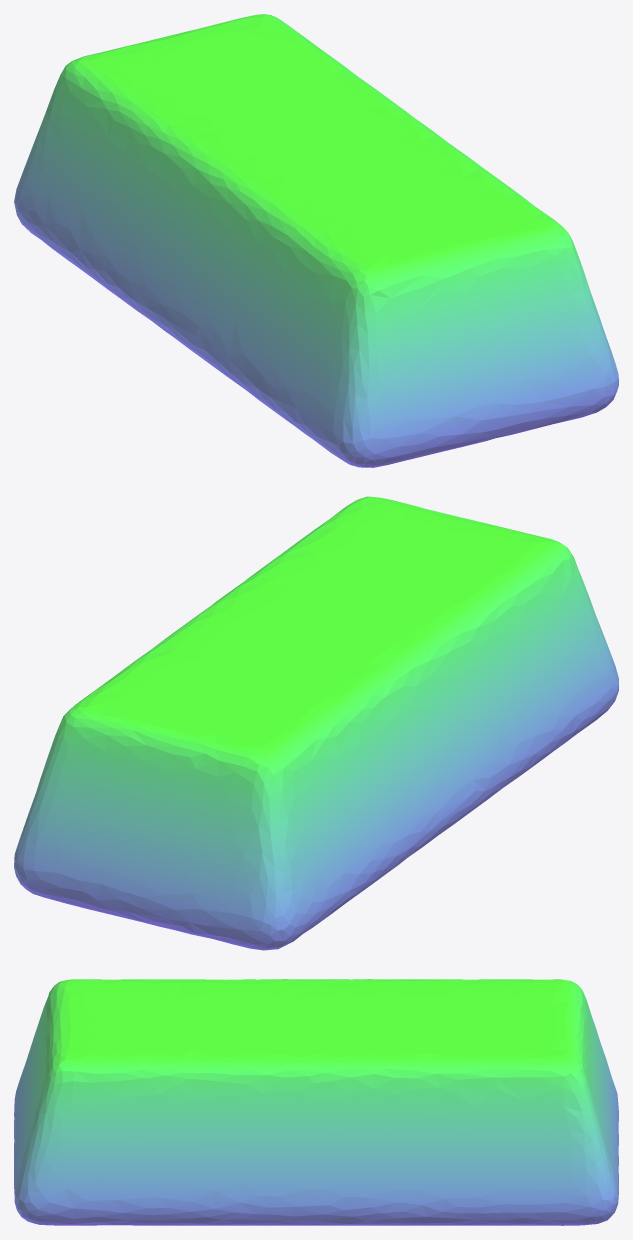
File: 11_cyb_laser_gradient_fish_scales_2988_2026_10_03_601b52.glb
3 views of the same model, one above another, from view 1: azimuth 30°, elevation 25°; view 2: azimuth 150°, elevation 25°; view 3: azimuth 270°, elevation 25° (orthographic). The views are drawn at different scales.
Visible parts, largest first — view 1: geometry_0; view 2: geometry_0; view 3: geometry_0.
Boxes of the visible parts, x1,y1,x2,y2 form: geometry_0: [14, 14, 618, 467]; geometry_0: [14, 496, 618, 950]; geometry_0: [14, 979, 618, 1225].
Bounding box in the file's own units: 0.4646 × 0.2913 × 1.
